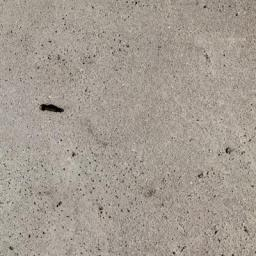FOD: (36, 102, 67, 116)
